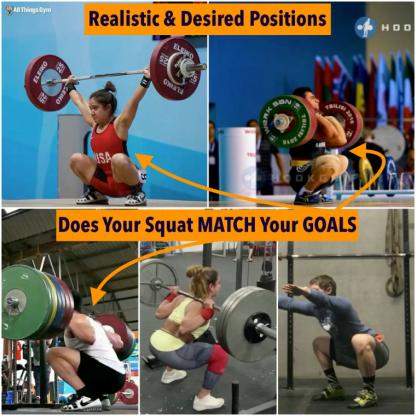Barbell: (18, 47, 79, 116), (149, 35, 206, 102), (255, 92, 315, 154)
